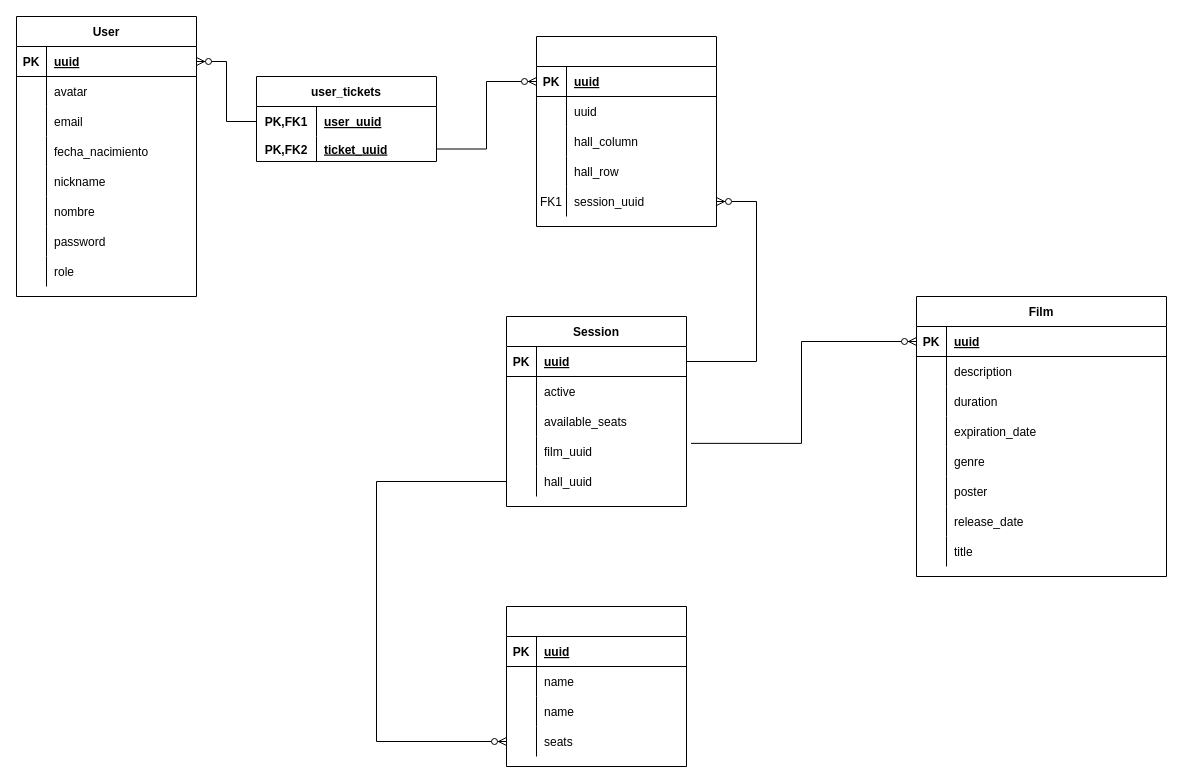
The diagram is 1183 pixels wide and 783 high, and some of its shapes have lost their labels. The box of each missing label's shape, as (x1, y1, x2, y2) in pixels:
Hall: (506, 606, 686, 766)
Ticket: (536, 36, 716, 226)
